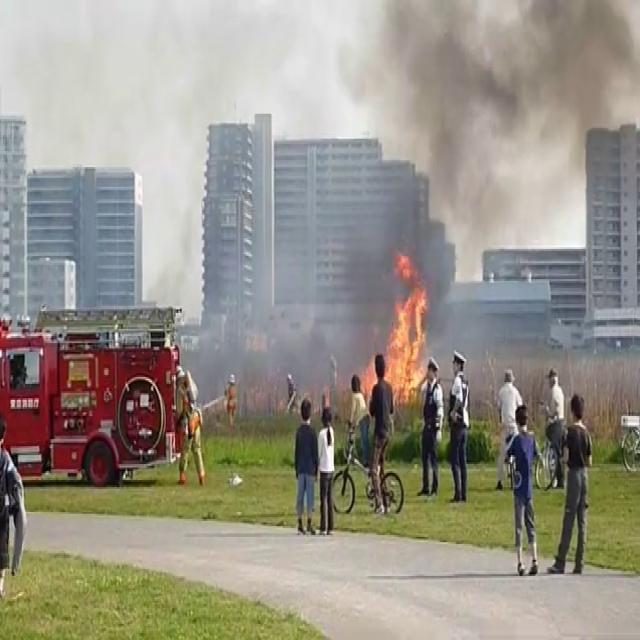Fire: (377, 253, 433, 403)
Smoke: (328, 1, 638, 348)
